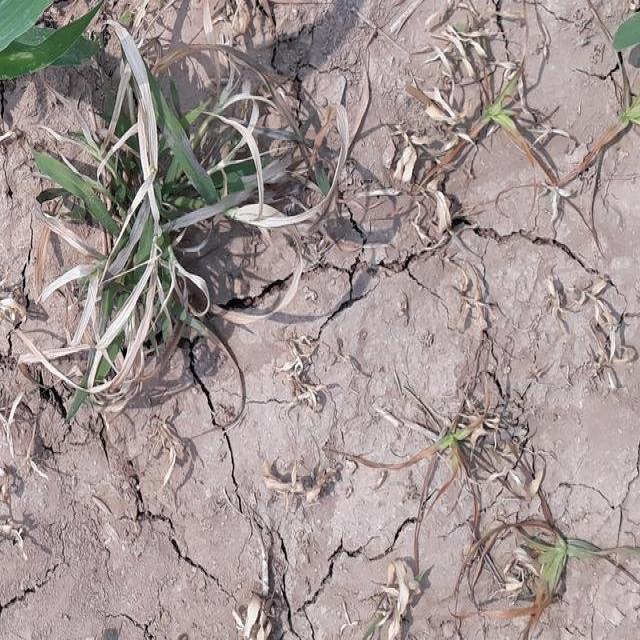weed: (32, 102, 260, 394)
